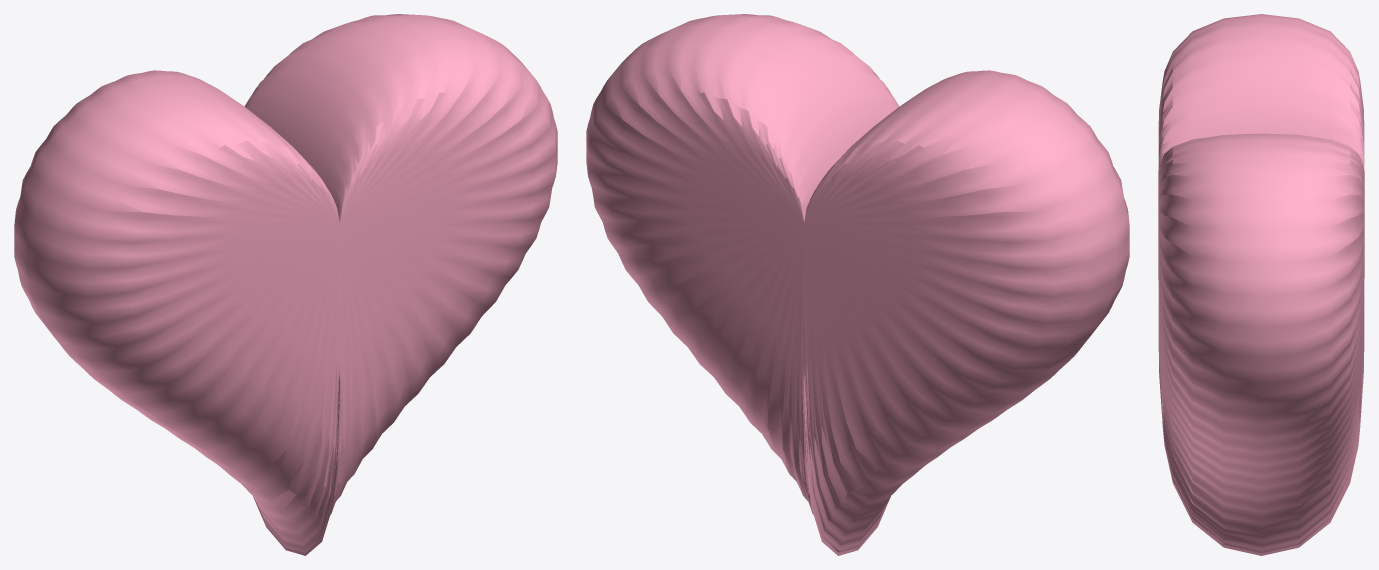
File: Heart.fbx
The picture shows the model from 3 angles, left to right: view 1: azimuth 30°, elevation 25°; view 2: azimuth 150°, elevation 25°; view 3: azimuth 270°, elevation 25°; orthographic projection. The views are drawn at different scales.
Parts seen in each view (by area): view 1: Heart; view 2: Heart; view 3: Heart.
Part boxes in pixels (box(x1,y1,x2,y2)): Heart: box(14, 14, 557, 555); Heart: box(586, 14, 1129, 555); Heart: box(1158, 14, 1364, 555).
Bounding box in the file's own units: 1.22 × 1.1 × 0.4389.
